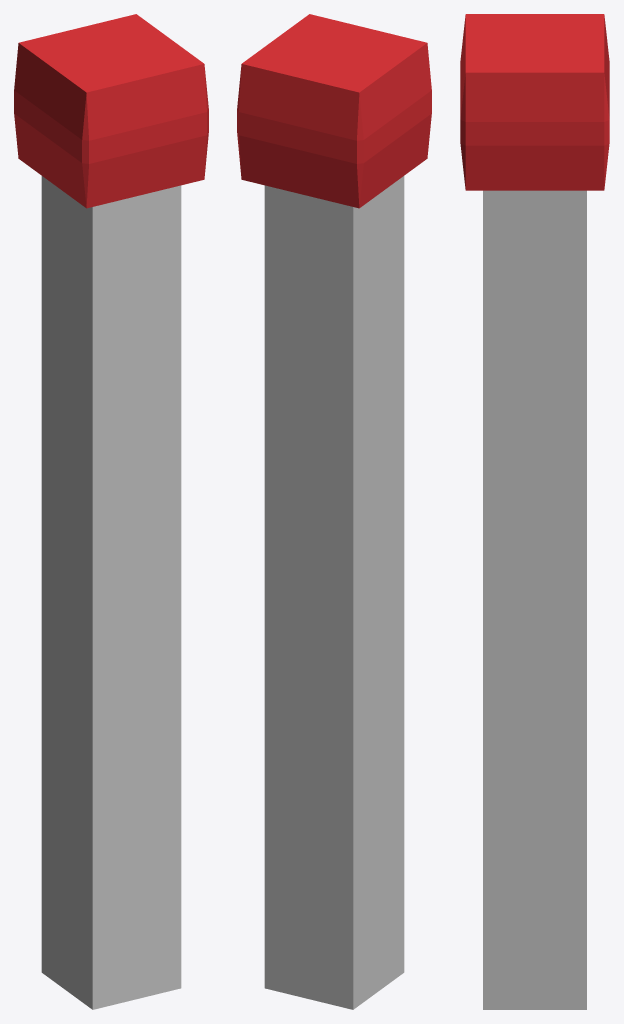
The model's file is lever.fbx.
The picture shows the model from 3 angles, left to right: view 1: azimuth 30°, elevation 25°; view 2: azimuth 150°, elevation 25°; view 3: azimuth 270°, elevation 25°; orthographic projection.
Parts seen in each view (by area): view 1: Cube, Cube.001; view 2: Cube, Cube.001; view 3: Cube, Cube.001.
Part boxes in pixels (x1=…): Cube: x1=41, y1=176, x2=181, y2=1009; Cube.001: x1=14, y1=14, x2=208, y2=208; Cube: x1=264, y1=176, x2=404, y2=1009; Cube.001: x1=237, y1=14, x2=431, y2=208; Cube: x1=483, y1=190, x2=586, y2=1009; Cube.001: x1=460, y1=14, x2=609, y2=190.
Size of the model in its own units: 7.15 by 50 by 7.15.
